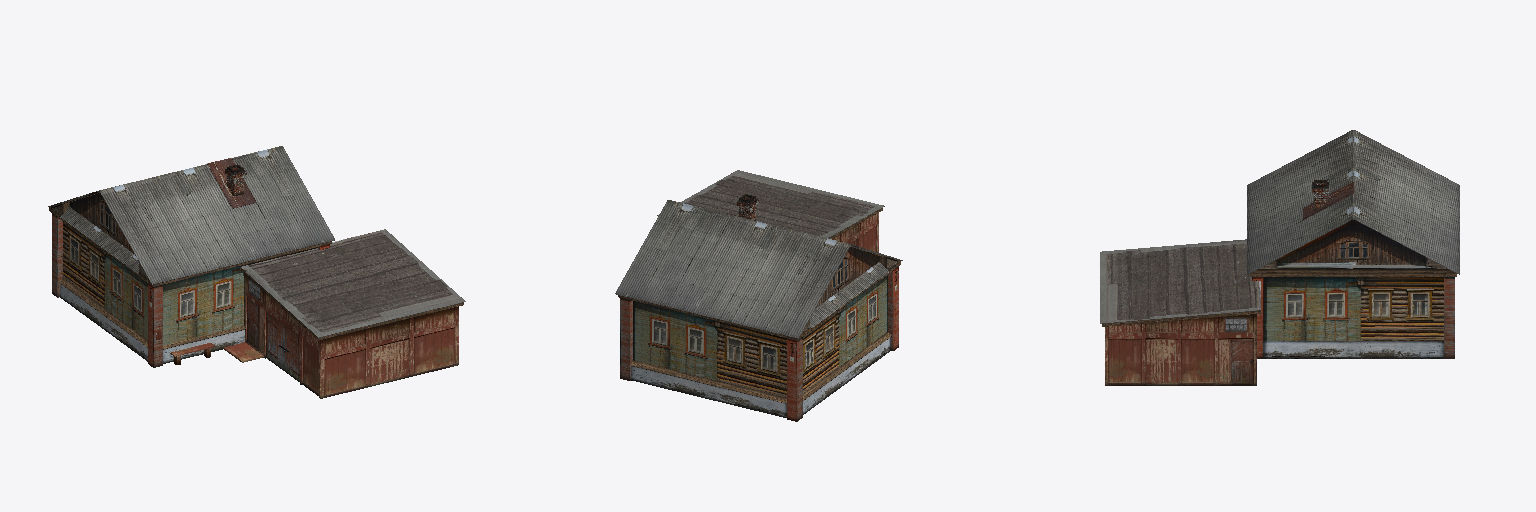
3 renders of one model, left to right at view 1: azimuth 30°, elevation 25°; view 2: azimuth 150°, elevation 25°; view 3: azimuth 270°, elevation 25°, orthographic.
Visible parts, largest first — view 1: village_house_1; view 2: village_house_1; view 3: village_house_1.
Boxes of the visible parts, x1,y1,x2,y2 form: village_house_1: [48, 146, 465, 398]; village_house_1: [615, 170, 902, 421]; village_house_1: [1100, 130, 1459, 385].
Bounding box in the file's own units: 6.25 × 3.64 × 8.1.
1 materials, 1 textured.